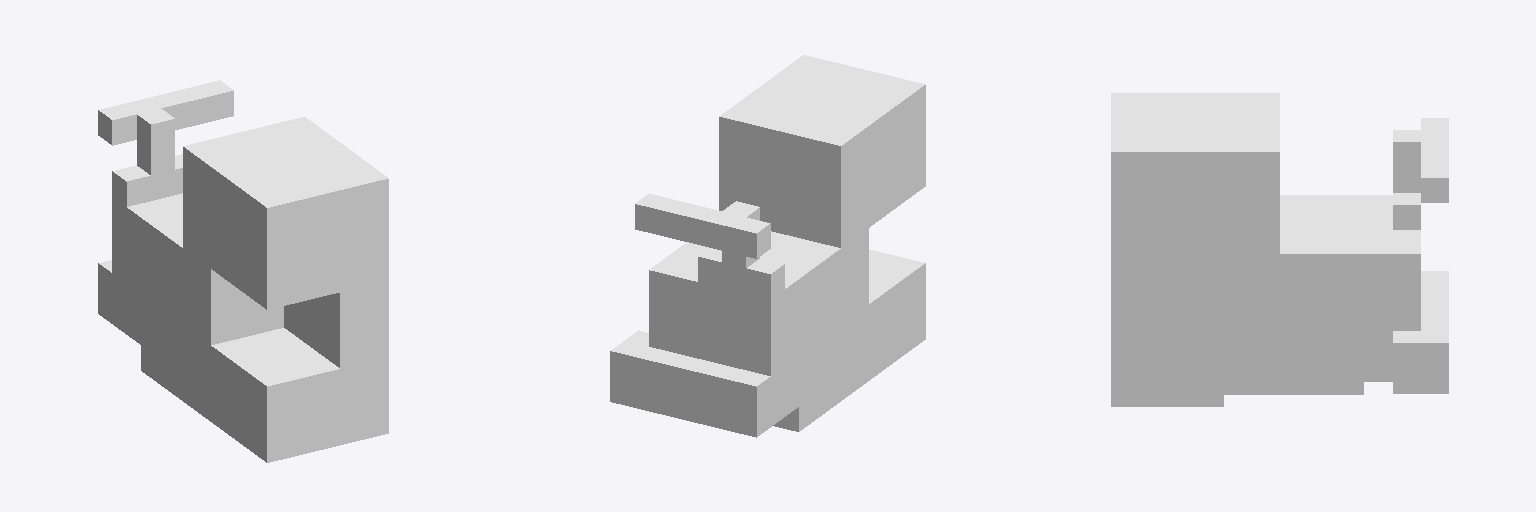
File: redcarBottomLeft.obj
3 views of the same model, side by side, from view 1: azimuth 30°, elevation 25°; view 2: azimuth 150°, elevation 25°; view 3: azimuth 270°, elevation 25° (orthographic).
Visible parts, largest first — view 1: object 1; view 2: object 1; view 3: object 1.
Boxes of the visible parts, <box> form: object 1: <box>98,80,388,462</box>; object 1: <box>610,55,925,437</box>; object 1: <box>1111,93,1448,406</box>.
Size of the model in its own units: 0.6 by 1 by 1.2.